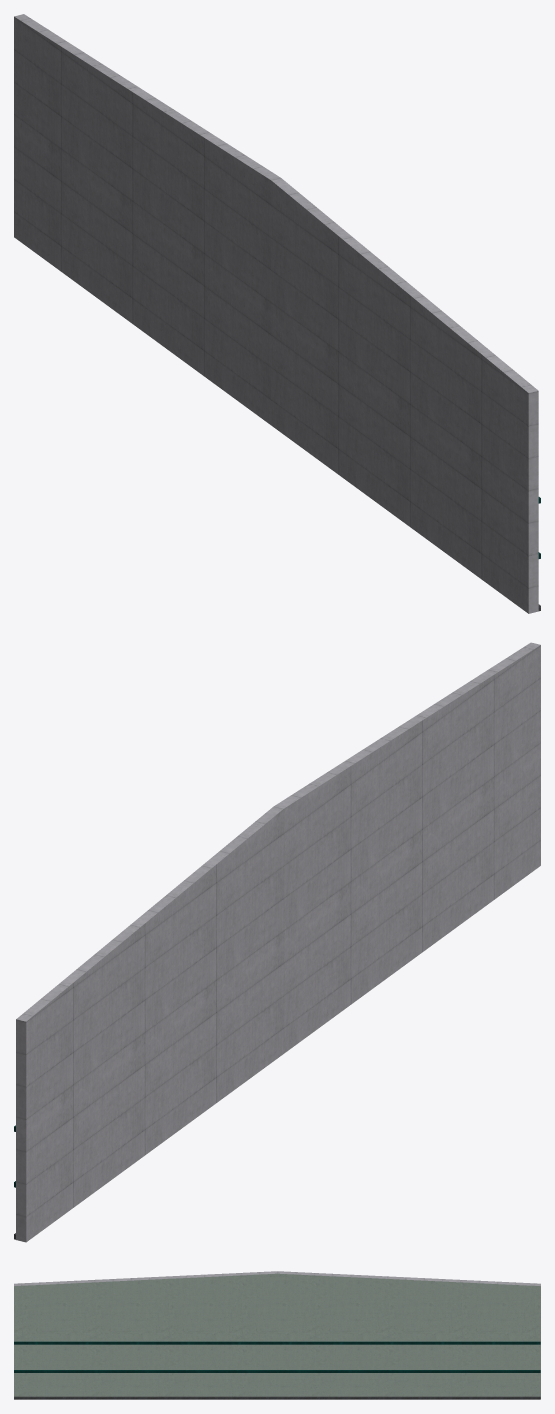
File: WareFront_Walls.glb
3 views of the same model, one above another, from view 1: azimuth 30°, elevation 25°; view 2: azimuth 150°, elevation 25°; view 3: azimuth 270°, elevation 25° (orthographic). The views are drawn at different scales.
Visible parts, largest first — view 1: WareFront_Walls; view 2: WareFront_Walls; view 3: WareFront_Walls, WareFront_Metal.
Boxes of the visible parts, box(x1,y1,x2,y2) form: WareFront_Walls: box(14, 14, 540, 613); WareFront_Walls: box(14, 642, 540, 1242); WareFront_Walls: box(14, 1271, 540, 1399); WareFront_Metal: box(14, 1341, 540, 1372).
Bounding box in the file's own units: 0.5164 × 9.72 × 37.
4 materials, 4 textured.
